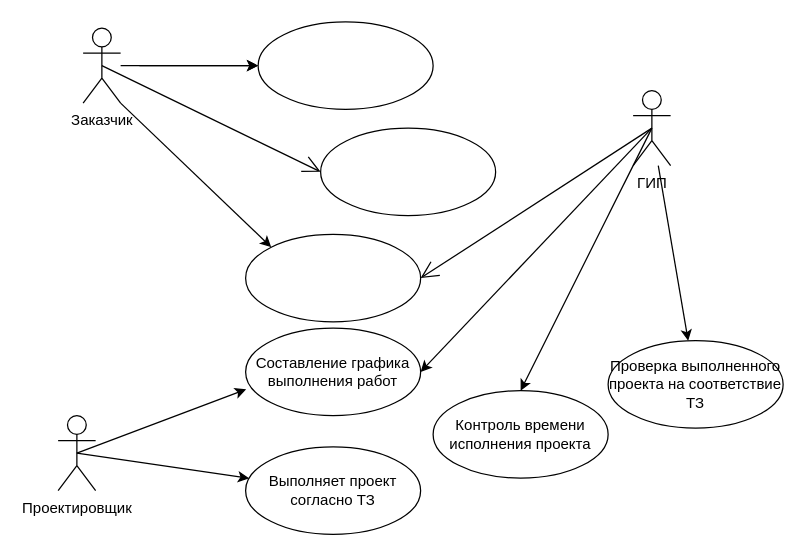
Image size: 805x556. Some labels were removed from this diagram. Each missing label, with the box of its shape:
Оформляет заказ на проект: (257, 21, 433, 109)
Оформляет техническое задание на проектирование: (244, 233, 421, 322)
Согласование выполненного проекта: (319, 127, 496, 216)
